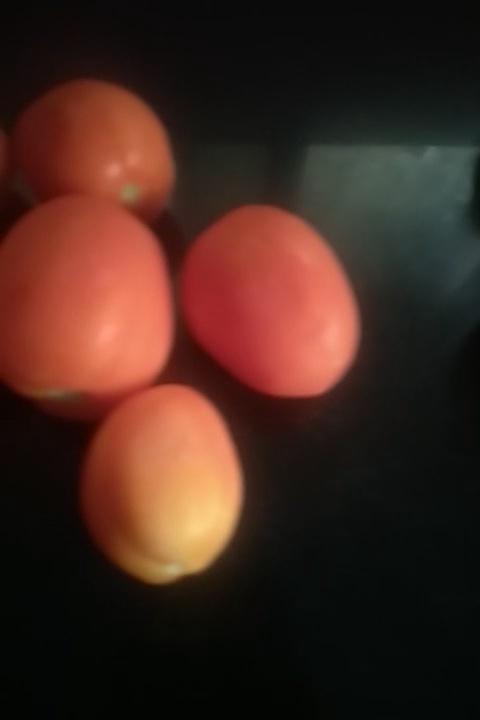tomato: (1, 196, 174, 411), (177, 204, 363, 400), (95, 381, 242, 582), (1, 87, 184, 215)
